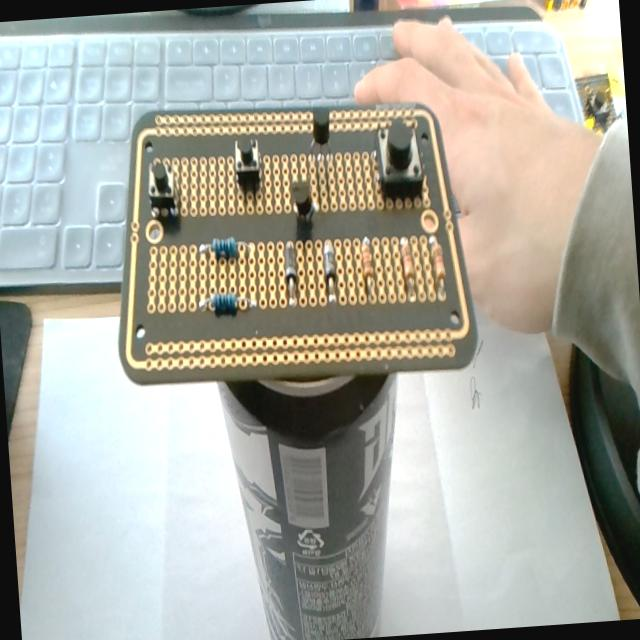diode: (321, 237, 339, 304), (282, 240, 300, 306)
resistor: (198, 289, 255, 317), (198, 235, 250, 262), (398, 236, 417, 298), (428, 232, 447, 293), (359, 235, 375, 298)
switch: (372, 118, 426, 204), (144, 155, 177, 216), (232, 133, 262, 187)
